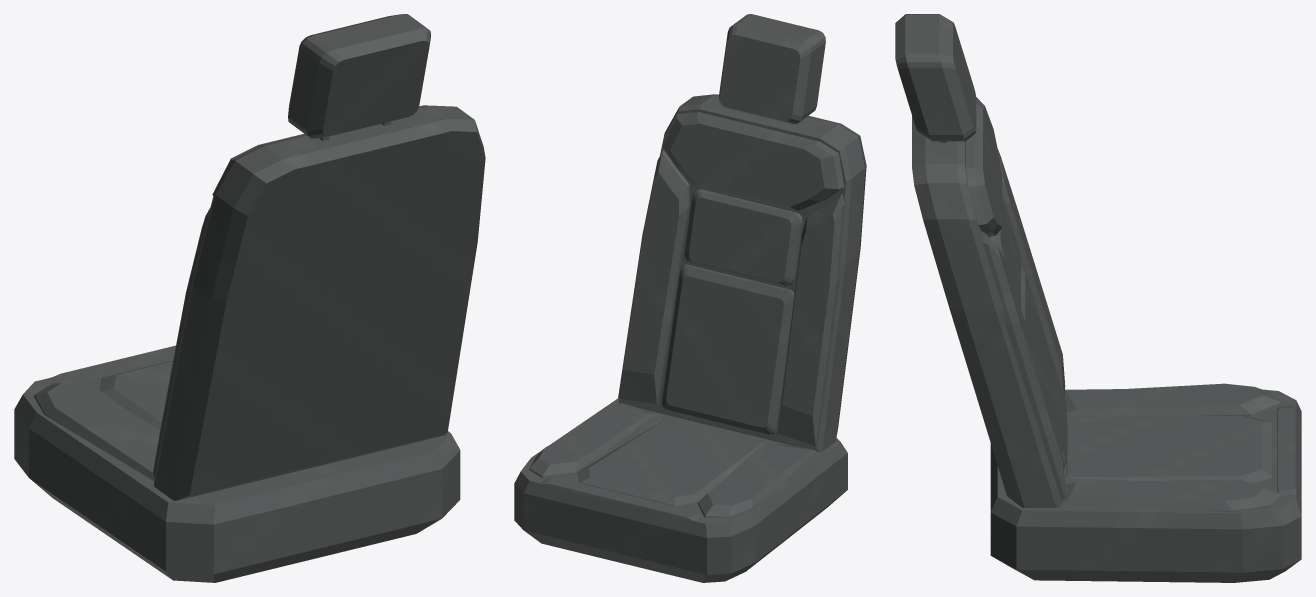
The model's file is psx_seat.fbx.
3 renders of one model, left to right at view 1: azimuth 30°, elevation 25°; view 2: azimuth 150°, elevation 25°; view 3: azimuth 270°, elevation 25°, orthographic. The views are drawn at different scales.
Parts seen in each view (by area): view 1: Back_Shell, Seat_Base, Headrest, Cushion_Bolster_L, Cushion_Center, Cushion_Front_Lip, Back_Bolster_L; view 2: Seat_Base, Back_Lower_Pad, Back_Shell, Shoulder_Pad, Back_Bolster_L, Back_Bolster_R, Cushion_Center, Headrest, Back_Upper_Pad, Cushion_Bolster_R, Cushion_Bolster_L, Cushion_Front_Lip; view 3: Seat_Base, Back_Shell, Cushion_Center, Headrest, Cushion_Bolster_L, Cushion_Bolster_R, Back_Bolster_R, Shoulder_Pad, Back_Lower_Pad, Back_Bolster_L, Cushion_Front_Lip, Back_Upper_Pad.
Part boxes in pixels (x1,y1,x2,y2): Back_Shell: [154, 105, 485, 500]; Seat_Base: [14, 358, 460, 582]; Headrest: [288, 14, 430, 138]; Cushion_Bolster_L: [34, 383, 159, 480]; Cushion_Center: [100, 360, 172, 429]; Cushion_Front_Lip: [49, 345, 175, 383]; Back_Bolster_L: [153, 208, 210, 476]; Seat_Base: [514, 398, 847, 582]; Back_Lower_Pad: [662, 264, 794, 434]; Back_Shell: [619, 94, 866, 452]; Shoulder_Pad: [662, 112, 843, 210]; Back_Bolster_L: [777, 193, 845, 447]; Back_Bolster_R: [618, 150, 689, 405]; Cushion_Center: [578, 418, 764, 506]; Headrest: [719, 14, 825, 123]; Back_Upper_Pad: [684, 189, 802, 285]; Cushion_Bolster_R: [529, 403, 655, 477]; Cushion_Bolster_L: [697, 444, 815, 518]; Cushion_Front_Lip: [535, 478, 701, 524]; Seat_Base: [990, 389, 1301, 582]; Back_Shell: [912, 116, 1062, 507]; Cushion_Center: [1066, 415, 1272, 483]; Headrest: [895, 14, 976, 141]; Cushion_Bolster_L: [1064, 383, 1281, 415]; Cushion_Bolster_R: [1061, 479, 1282, 511]; Back_Bolster_R: [980, 232, 1065, 500]; Shoulder_Pad: [966, 97, 1002, 236]; Back_Lower_Pad: [1021, 267, 1066, 468]; Back_Bolster_L: [997, 149, 1065, 397]; Cushion_Front_Lip: [1277, 406, 1297, 498]; Back_Upper_Pad: [990, 195, 1020, 306].
Bounding box in the file's own units: 54 × 94.4 × 70.82.
1 material, 1 textured.
